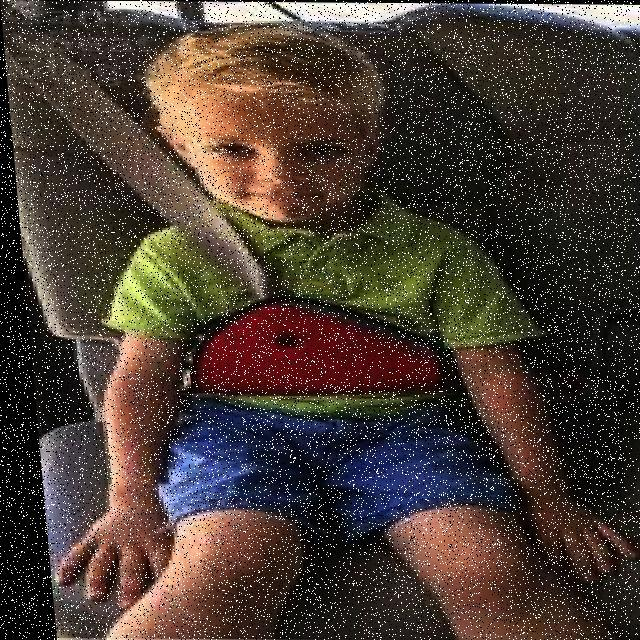seatbelt: (69, 150, 509, 408)
